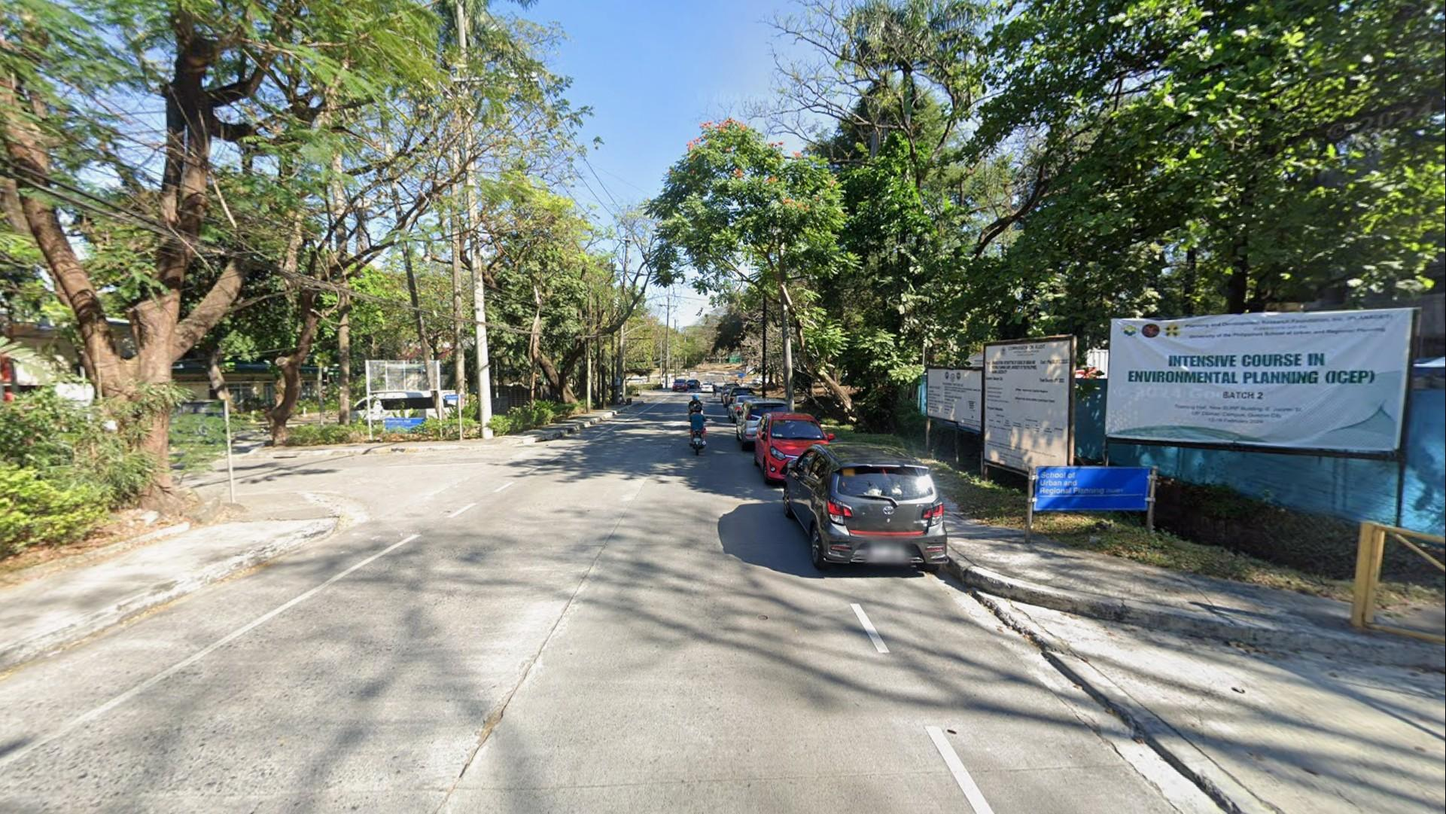pedestrian: (711, 379, 718, 399)
